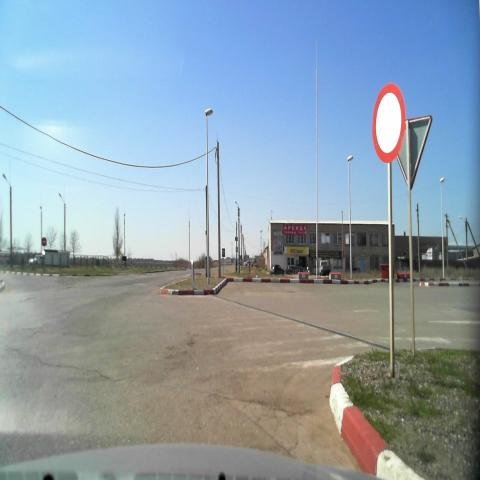3_2: (371, 84, 407, 167)
